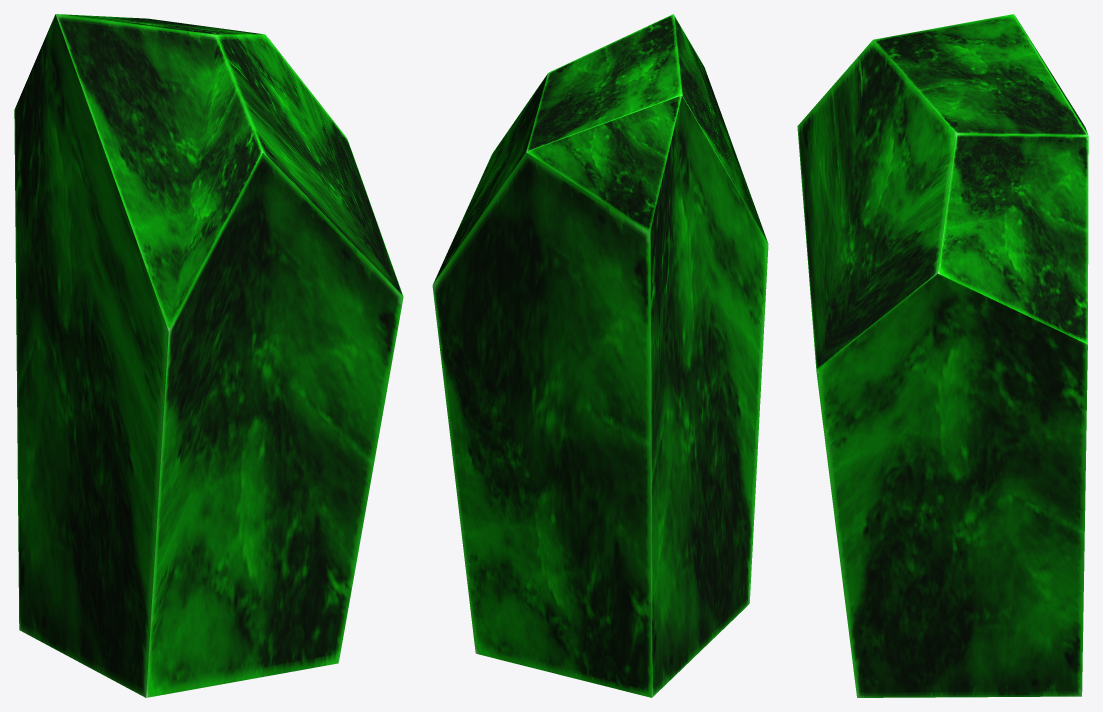
The model's file is c_Cris2c.glb.
The picture shows the model from 3 angles, left to right: view 1: azimuth 30°, elevation 25°; view 2: azimuth 150°, elevation 25°; view 3: azimuth 270°, elevation 25°; orthographic projection. The views are drawn at different scales.
Visible parts, largest first — view 1: c_Cris2c-col; view 2: c_Cris2c-col; view 3: c_Cris2c-col.
Boxes of the visible parts, box(x1,y1,x2,y2) form: c_Cris2c-col: box(14, 14, 403, 697); c_Cris2c-col: box(432, 14, 768, 697); c_Cris2c-col: box(797, 14, 1088, 697).
Size of the model in its own units: 0.1612 by 0.3976 by 0.1717.
1 material, 1 textured.
